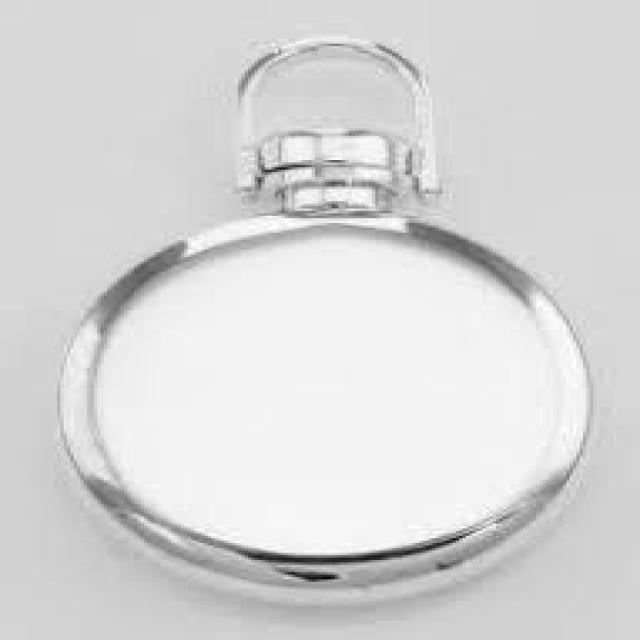metal: (47, 209, 590, 597), (221, 34, 436, 204)
